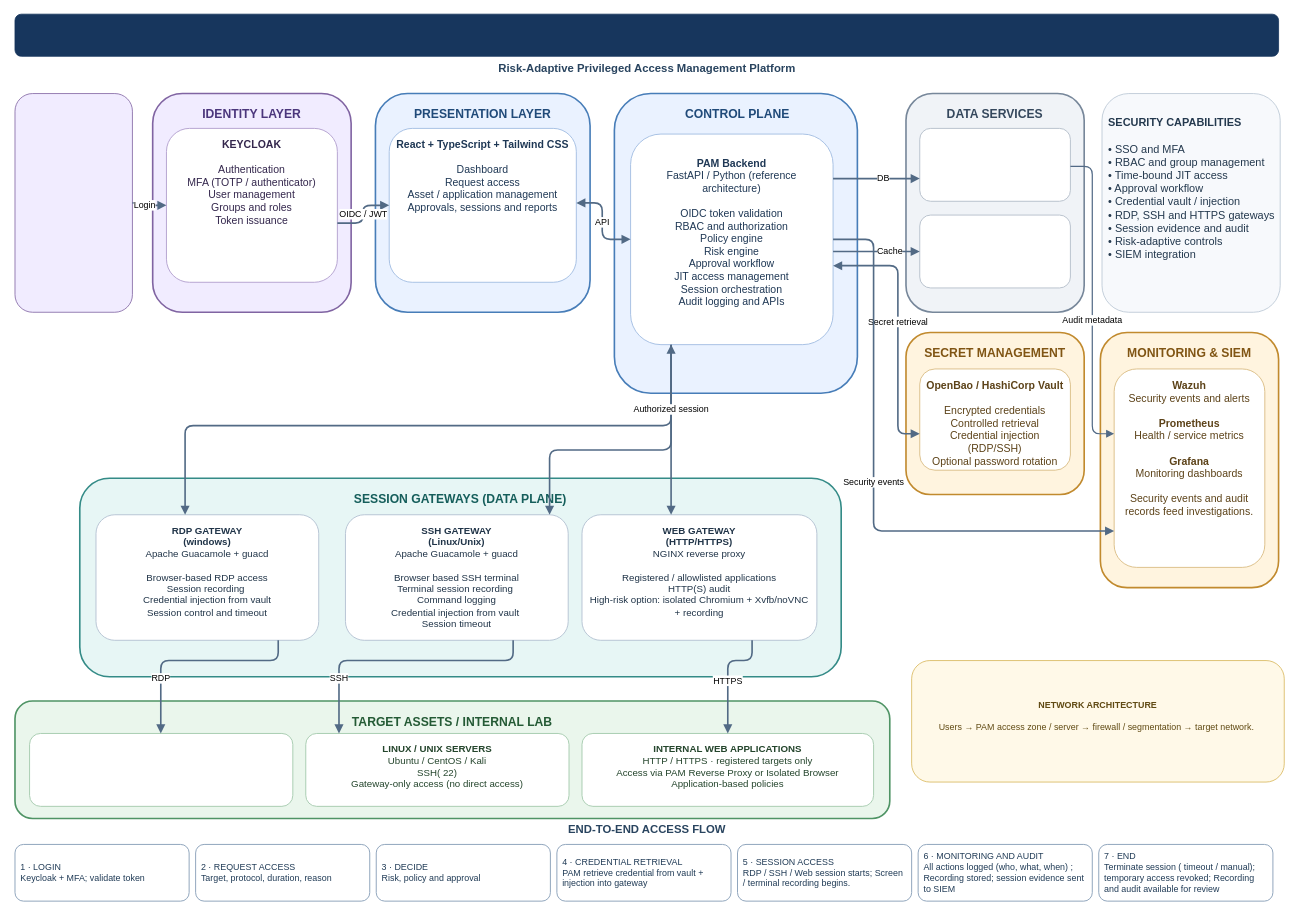
This 1298x916 diagram has some shape labels left out. Each missing label, with the centre of its shape:
"PostgreSQL Users, assets, policies Requests, sessions Audit metadata etc" belongs at pixel 994 164.
"Redis Cache, queues Temporary session state" belongs at pixel 994 251.
"SecurePAM — Detailed Architecture" belongs at pixel 646 34.
"USERS Privileged IT admins Operators Approvers Auditors" belongs at pixel 73 202.
"WINDOWS SERVERS RDP / TCP 3389 Gateway-only access (no direct access)" belongs at pixel 161 769.
